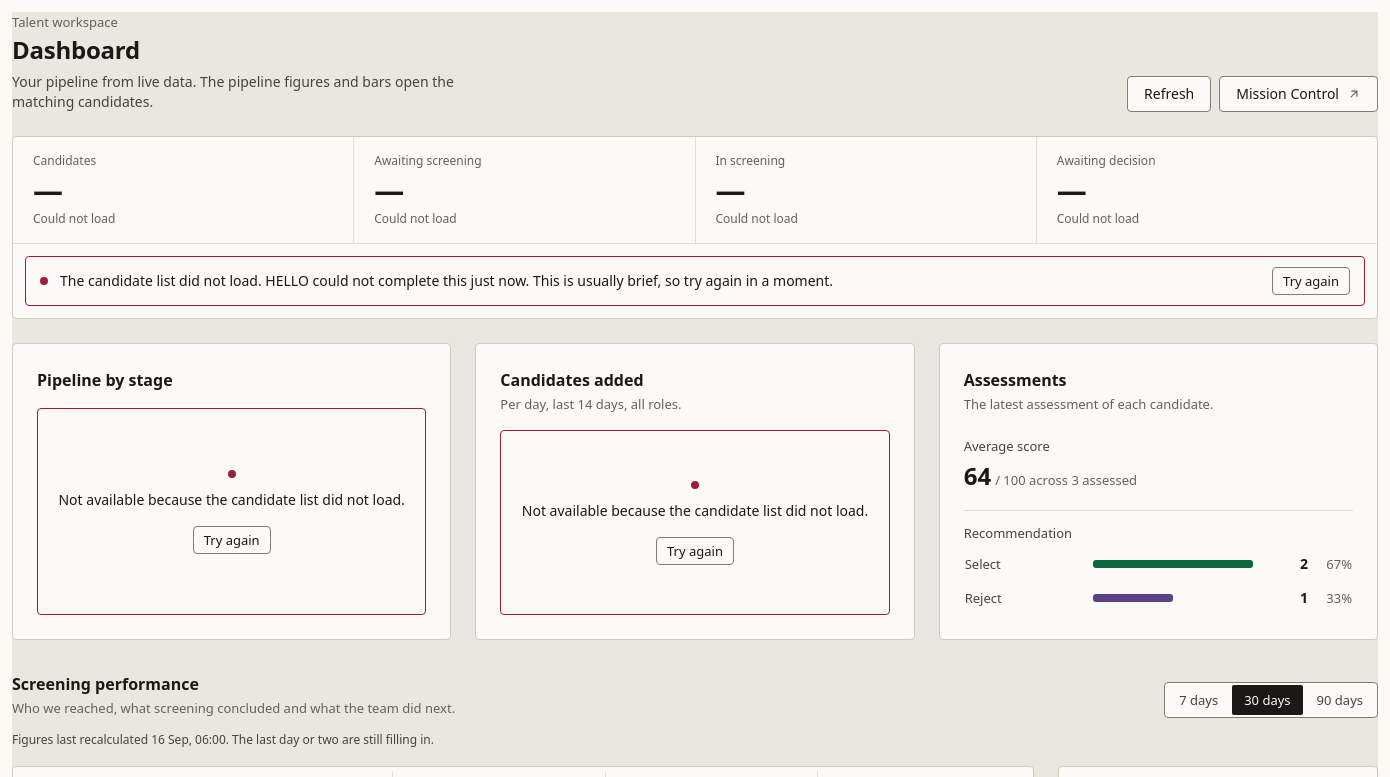
Test: DashboardPage › a read that fails stays in its own panels › Retry in Pipeline reloads only the list
This screenshot has width=1390, height=777.
Expected: the message is shown, [25, 256, 1365, 306]
Expected: the link with aria-label "average assessment score 64" is shown, [964, 437, 1137, 492]
Click the button "Try again" below "Awaiting decision" at (1311, 281), box [1272, 267, 1350, 295]
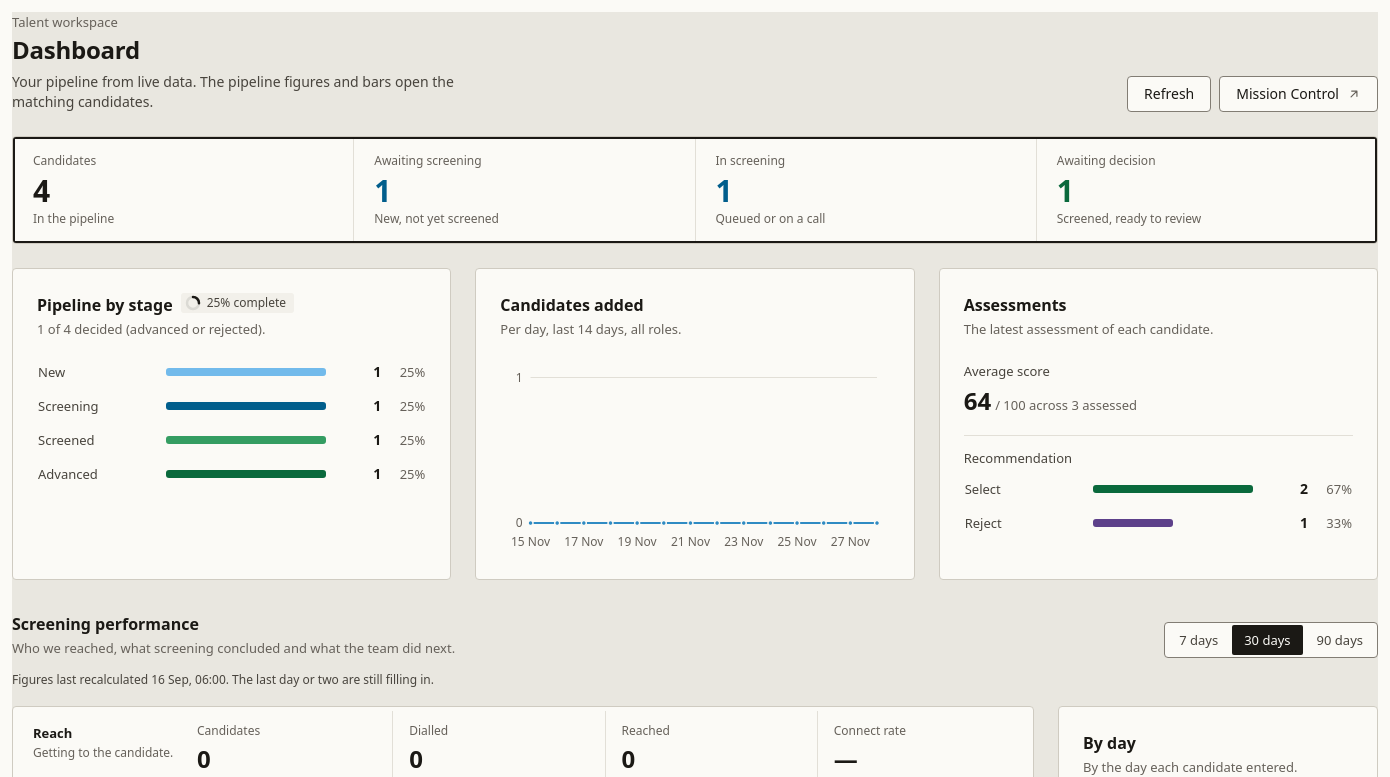
Now the link with aria-label "Candidates: 4" is shown, box [33, 152, 114, 227]
Now the message is gone
Now the table named "Pipeline by stage data" is shown, box [37, 355, 426, 491]
